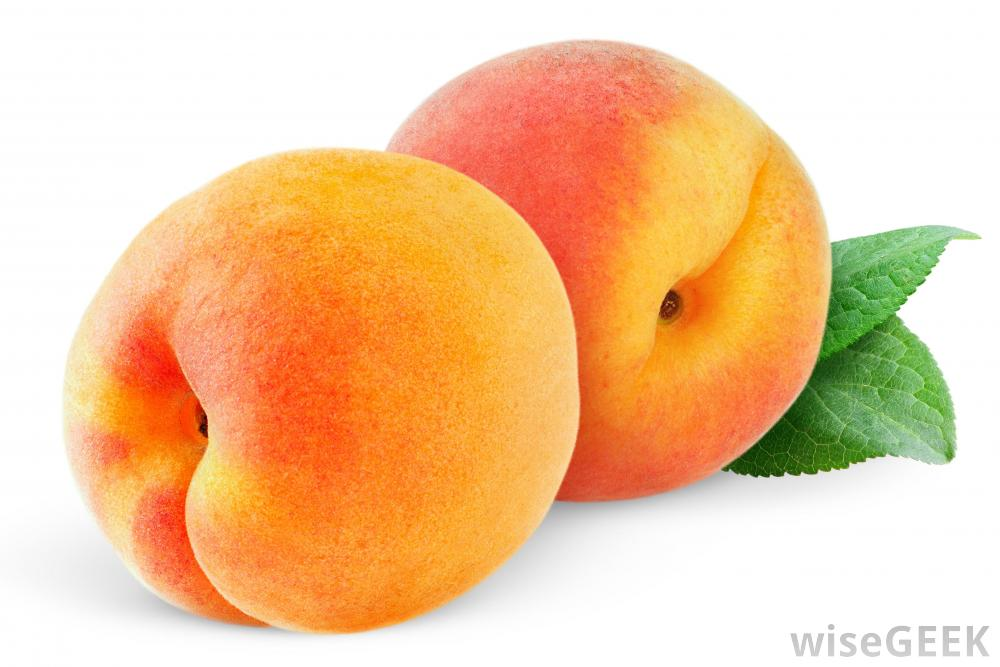peach: (64, 151, 557, 627), (482, 41, 820, 490)
